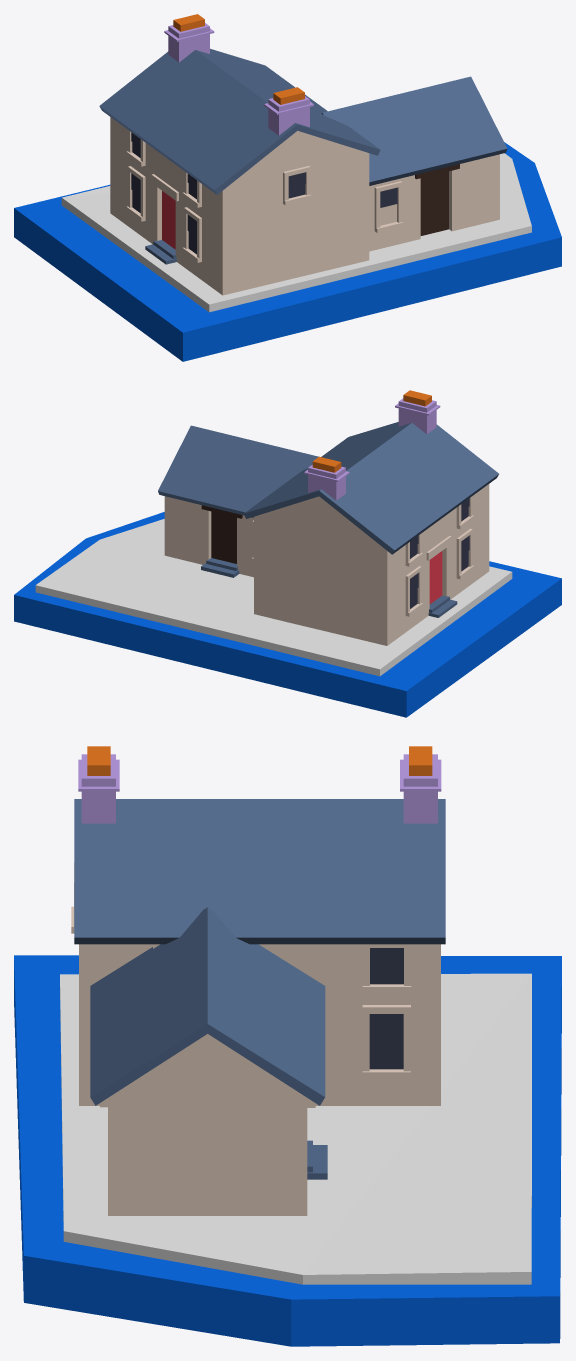
Rendered from Cottage Building2.fbx.
The picture shows the model from 3 angles, top to bottom: view 1: azimuth 30°, elevation 25°; view 2: azimuth 150°, elevation 25°; view 3: azimuth 270°, elevation 25°; orthographic projection. The views are drawn at different scales.
Visible parts, largest first — view 1: Cube.004, Cottage Slate, Cottage Foundation, Cotage Landscape, Cottage Stone, Cottage Dark Wood, Cottage Window, Cottage Terra, Cottage Dark Wood.001; view 2: Cube.004, Cottage Foundation, Cottage Slate, Cotage Landscape, Cottage Stone, Cottage Dark Wood, Cottage Window, Cottage Terra, Cottage Dark Wood.001; view 3: Cottage Slate, Cotage Landscape, Cottage Foundation, Cube.004, Cottage Stone, Cottage Window, Cottage Terra.
Part boxes in pixels (<box>): Cube.004: <box>110,117,499,295</box>; Cottage Slate: <box>99,48,507,264</box>; Cottage Foundation: <box>14,142,561,361</box>; Cotage Landscape: <box>61,153,531,312</box>; Cottage Stone: <box>164,23,313,135</box>; Cottage Dark Wood: <box>415,164,459,235</box>; Cottage Window: <box>131,132,397,254</box>; Cottage Terra: <box>173,14,304,104</box>; Cottage Dark Wood.001: <box>162,191,175,249</box>; Cube.004: <box>164,484,489,645</box>; Cottage Foundation: <box>14,512,561,717</box>; Cottage Slate: <box>158,422,498,617</box>; Cotage Landscape: <box>35,519,512,676</box>; Cottage Stone: <box>304,398,440,500</box>; Cottage Dark Wood: <box>201,505,242,563</box>; Cottage Window: <box>410,498,469,608</box>; Cottage Terra: <box>312,390,431,472</box>; Cottage Dark Wood.001: <box>429,551,442,604</box>; Cottage Slate: <box>74,799,445,1179</box>; Cotage Landscape: <box>60,973,531,1284</box>; Cottage Foundation: <box>14,955,561,1346</box>; Cube.004: <box>71,862,440,1215</box>; Cottage Stone: <box>78,754,441,823</box>; Cottage Window: <box>369,948,403,1069</box>; Cottage Terra: <box>87,746,432,775</box>.
Size of the model in its own units: 26.49 by 12.58 by 17.81.
